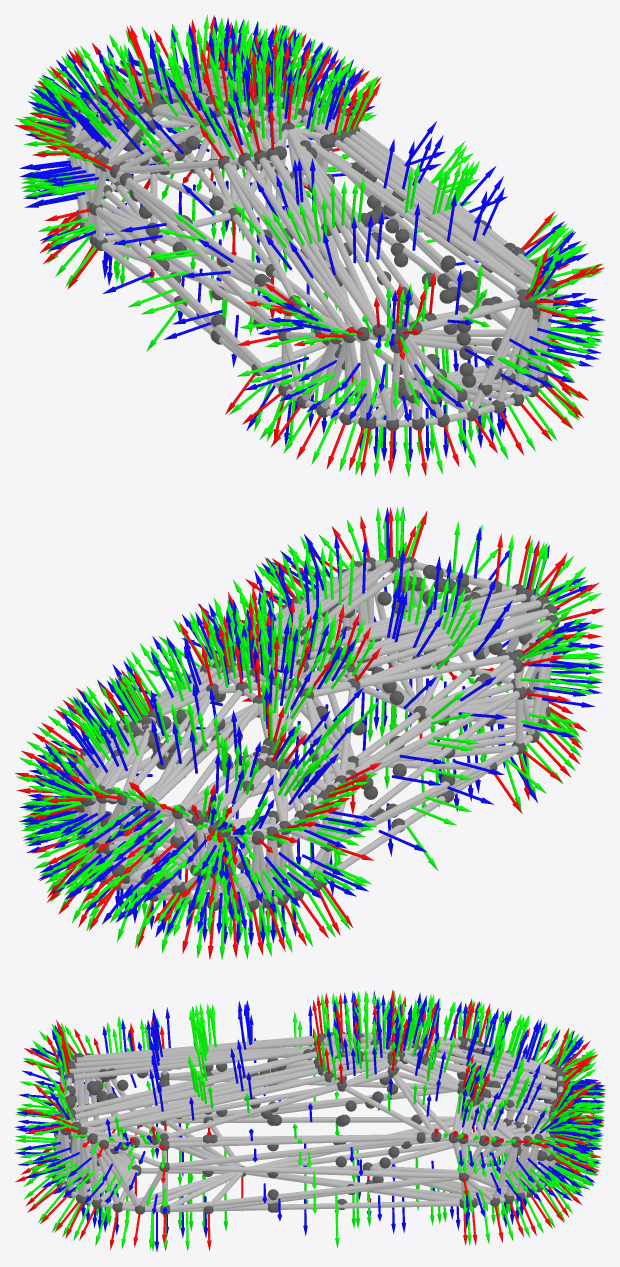
The model's file is t2f_car_97.gltf.
The picture shows the model from 3 angles, top to bottom: view 1: azimuth 30°, elevation 25°; view 2: azimuth 150°, elevation 25°; view 3: azimuth 270°, elevation 25°; orthographic projection. The views are drawn at different scales.
Size of the model in its own units: 0.5352 by 0.4063 by 1.05.
